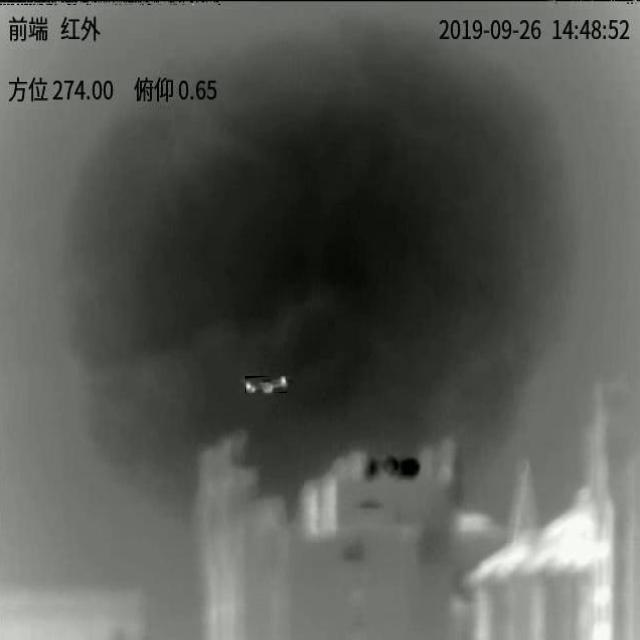drone: (245, 376, 287, 393)
